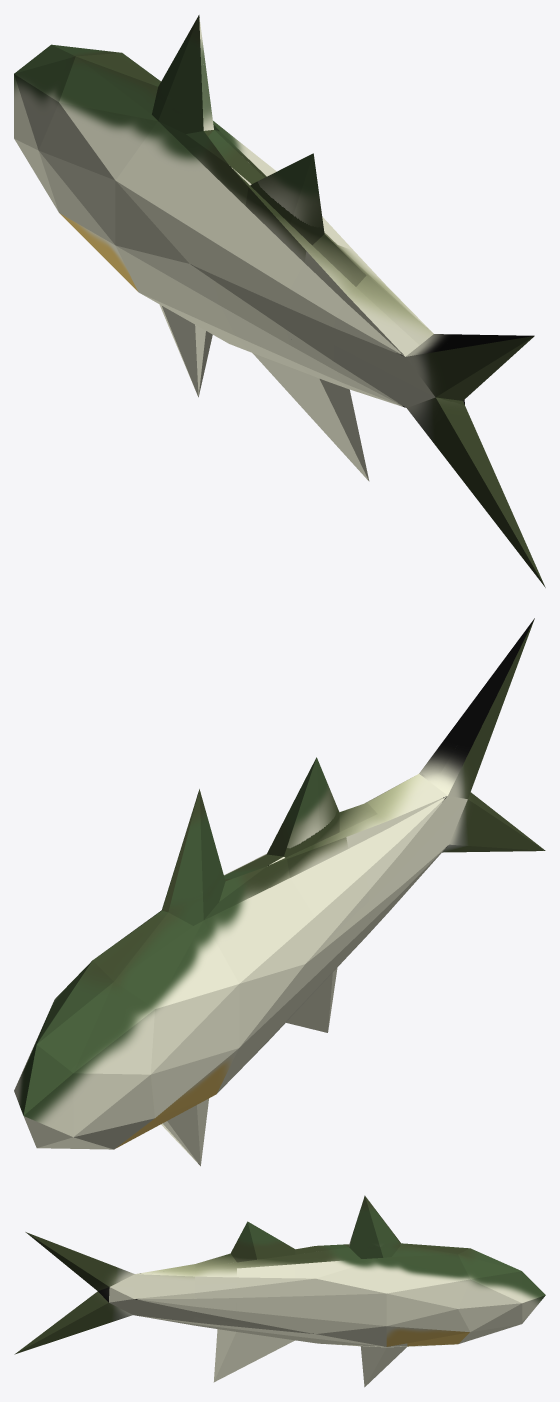
File: fish_threadfin.obj
3 renders of one model, top to bottom at view 1: azimuth 30°, elevation 25°; view 2: azimuth 150°, elevation 25°; view 3: azimuth 270°, elevation 25°, orthographic. The views are drawn at different scales.
Parts seen in each view (by area): view 1: Icosphere; view 2: Icosphere; view 3: Icosphere.
Boxes of the visible parts, x1,y1,x2,y2 form: Icosphere: (14, 15, 545, 587); Icosphere: (14, 618, 545, 1166); Icosphere: (14, 1195, 545, 1387).
Bounding box in the file's own units: 0.6456 × 1.96 × 4.92.
1 material, 1 textured.
